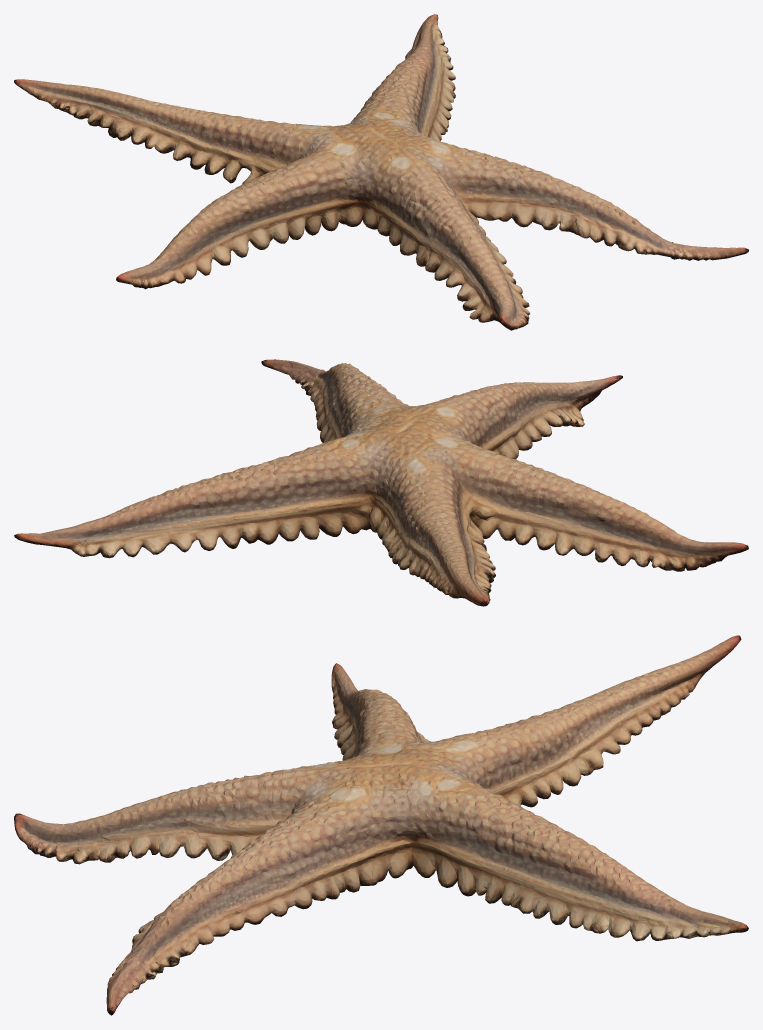
3 renders of one model, top to bottom at view 1: azimuth 30°, elevation 25°; view 2: azimuth 150°, elevation 25°; view 3: azimuth 270°, elevation 25°, orthographic. The views are drawn at different scales.
Parts seen in each view (by area): view 1: world; view 2: world; view 3: world.
Part boxes in pixels (left/top/right/bottom): world: left=14, top=14, right=748, bottom=330; world: left=14, top=359, right=748, bottom=606; world: left=14, top=635, right=748, bottom=1015.
Size of the model in its own units: 0.9938 by 0.1664 by 0.9935.
Materials: 1 (1 with a texture image).
